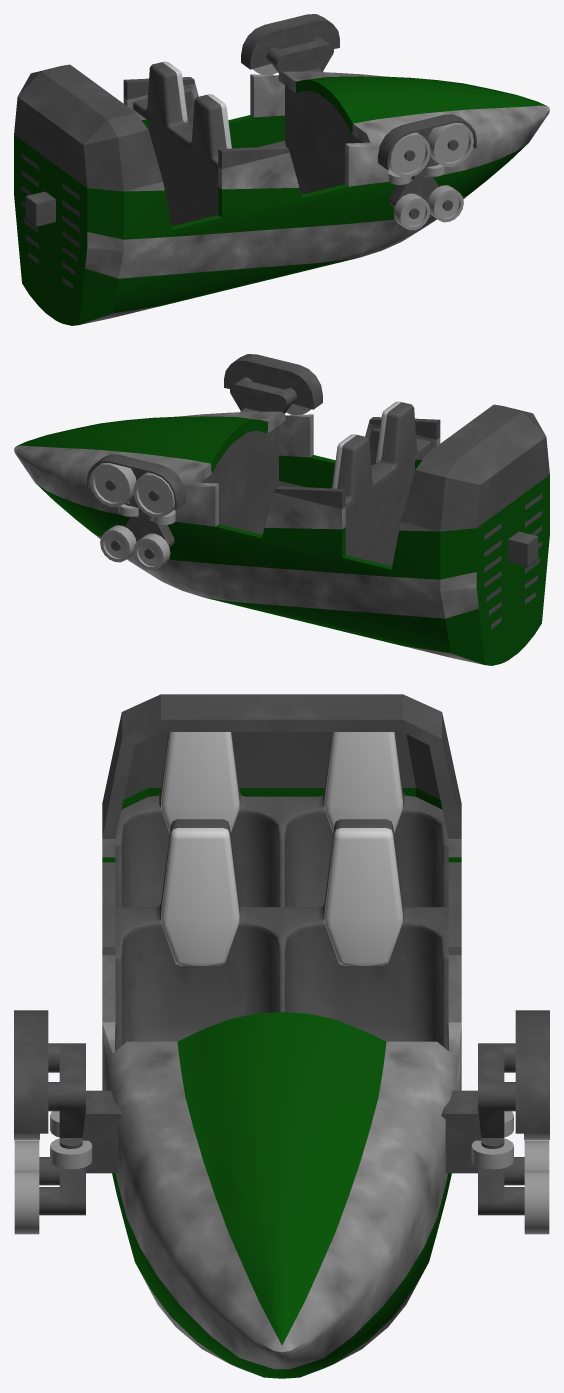
Rendered from front_car.obj.
The picture shows the model from 3 angles, top to bottom: view 1: azimuth 30°, elevation 25°; view 2: azimuth 150°, elevation 25°; view 3: azimuth 270°, elevation 25°; orthographic projection. The views are drawn at different scales.
Parts seen in each view (by area): view 1: Cube.002, Cube, Cube.006; view 2: Cube.002, Cube, Cube.006; view 3: Cube.002, Cube, Cube.006.
Part boxes in pixels (box(x1,y1,x2,y2)): Cube.002: box(14, 61, 348, 325); Cube: box(250, 71, 549, 263); Cube.006: box(241, 14, 476, 230); Cube.002: box(215, 401, 549, 665); Cube: box(14, 411, 313, 603); Cube.006: box(87, 354, 322, 570); Cube.002: box(102, 694, 461, 1050); Cube: box(102, 1012, 461, 1378); Cube.006: box(14, 1010, 549, 1234).
Bounding box in the file's own units: 4.26 × 1.69 × 2.08.
